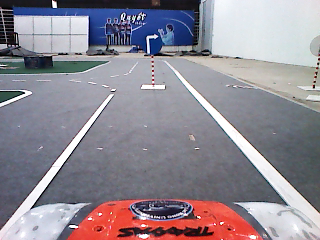turn: (140, 31, 166, 57)
